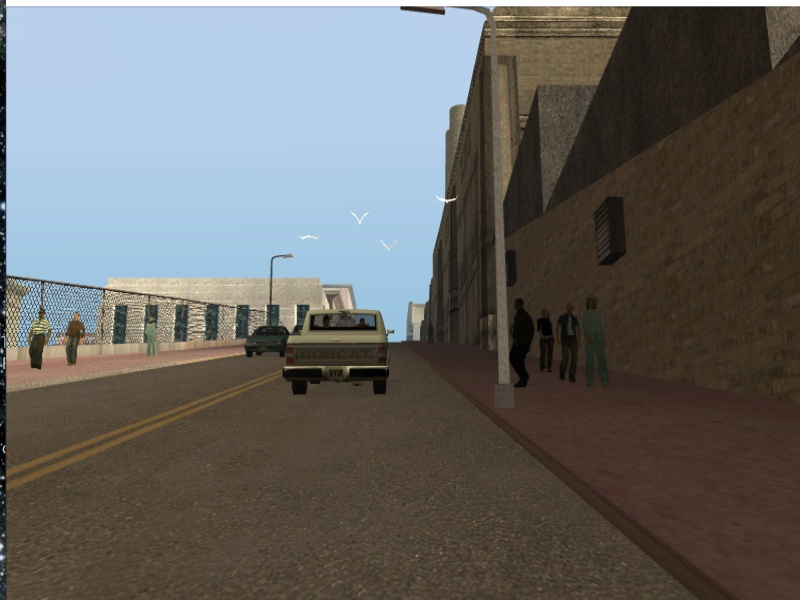person: (582, 295, 612, 390), (513, 298, 534, 383), (559, 307, 578, 383), (63, 309, 86, 363), (538, 305, 555, 374), (31, 306, 45, 372), (144, 315, 159, 361)
pole: (477, 11, 514, 404)
vehicle: (283, 309, 404, 401), (243, 323, 286, 358)
